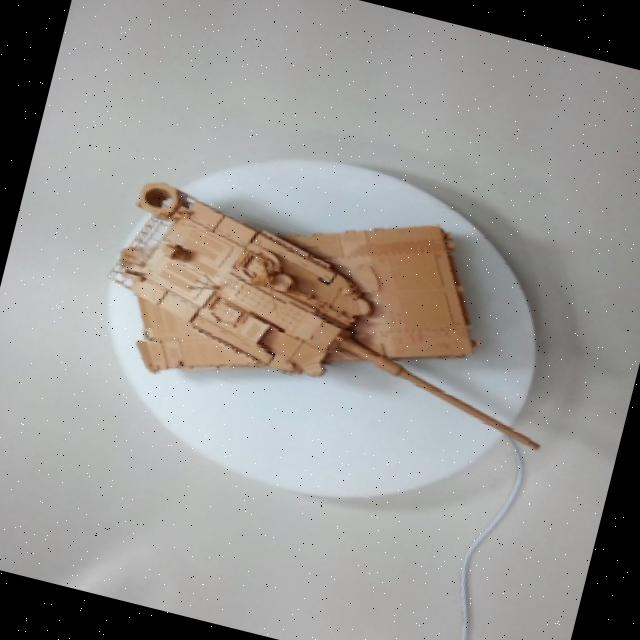korea tank: (45, 106, 602, 521)
